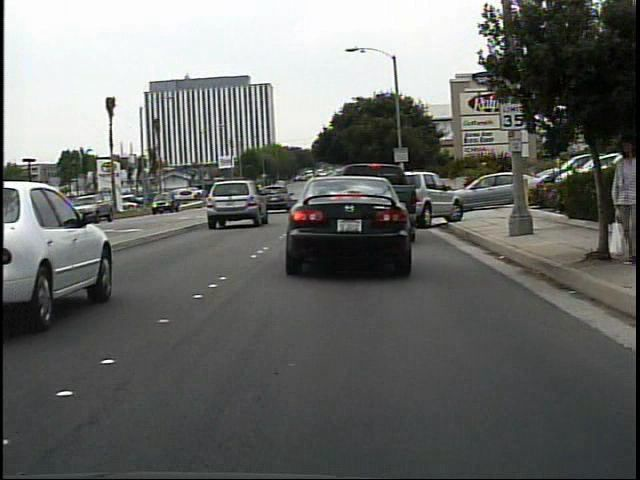person: (601, 134, 638, 269)
